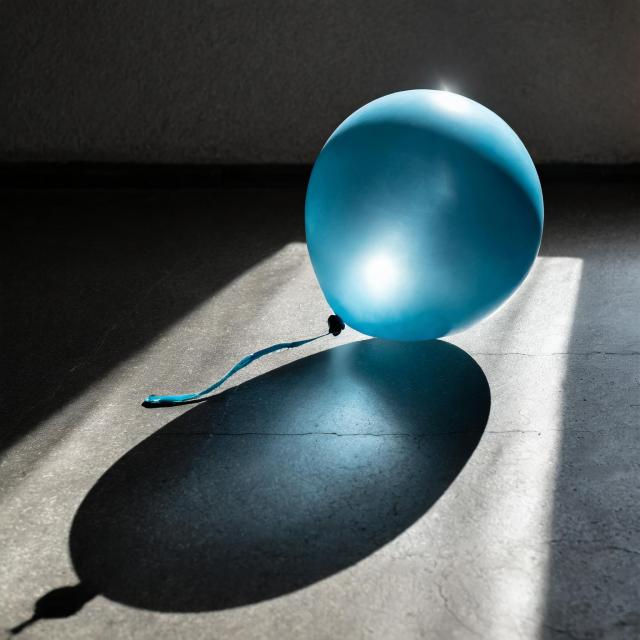blue: (306, 90, 545, 345)
